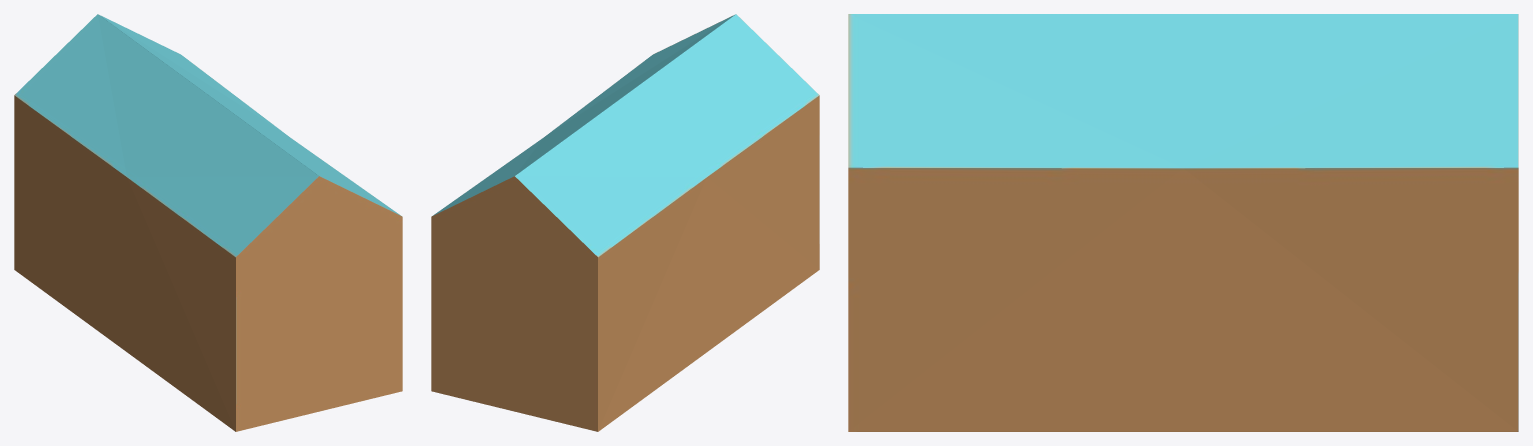
Rendered from small_farmhouse.obj.
3 views of the same model, side by side, from view 1: azimuth 30°, elevation 25°; view 2: azimuth 150°, elevation 25°; view 3: azimuth 270°, elevation 25° (orthographic). The views are drawn at different scales.
Visible parts, largest first — view 1: Cube; view 2: Cube; view 3: Cube.
Boxes of the visible parts, bbox=[...] form: Cube: bbox=[14, 14, 402, 431]; Cube: bbox=[431, 14, 819, 431]; Cube: bbox=[848, 14, 1518, 431].
Size of the model in its own units: 2 by 2.7 by 4.6.
2 materials, 2 textured.
